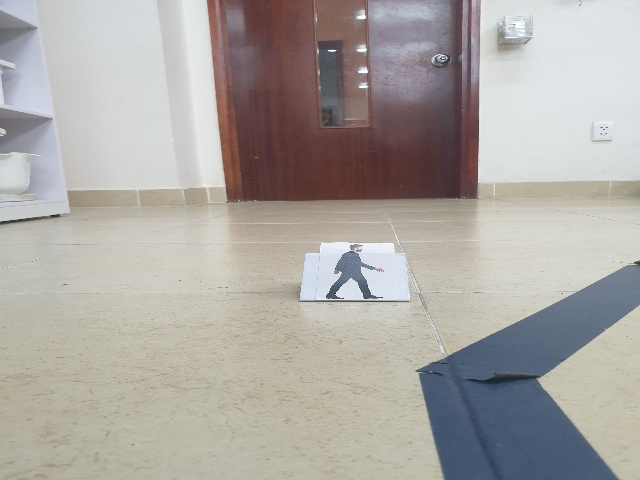Person: (324, 243, 385, 299)
